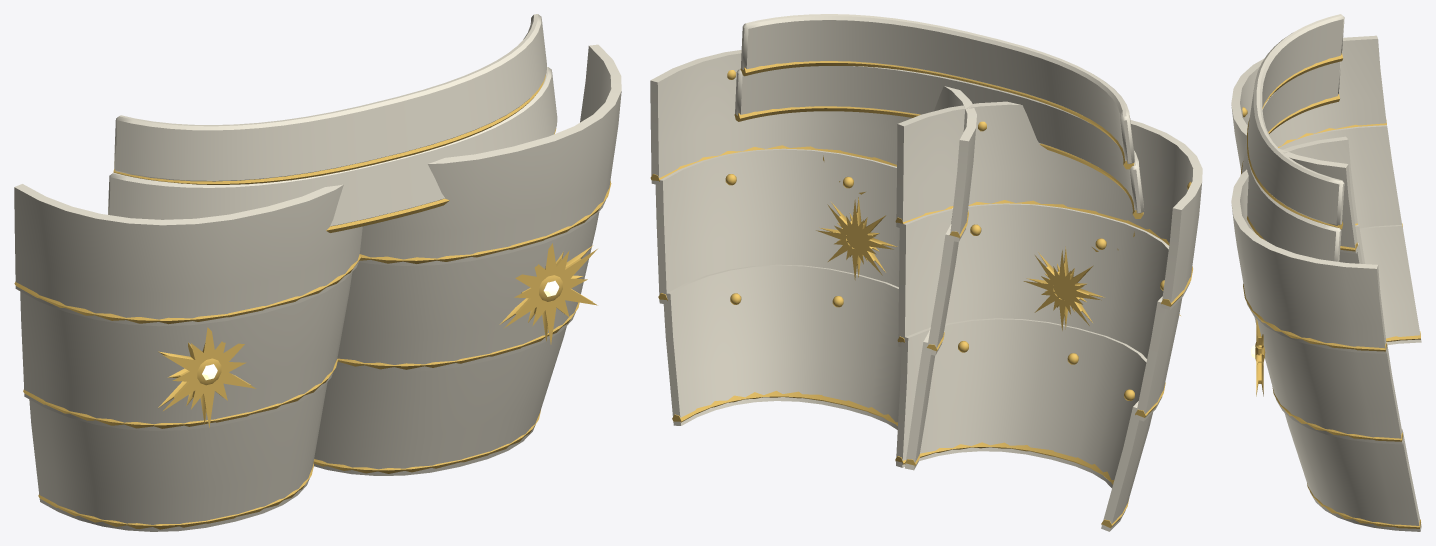
Rendered from asc_seraph_paladin_leggings.glb.
The picture shows the model from 3 angles, left to right: view 1: azimuth 30°, elevation 25°; view 2: azimuth 150°, elevation 25°; view 3: azimuth 270°, elevation 25°; orthographic projection. The views are drawn at different scales.
Parts seen in each view (by area): view 1: AT_thigh_R, AT_thigh_L, asc_seraph_paladin_leggings; view 2: AT_thigh_R, AT_thigh_L, asc_seraph_paladin_leggings; view 3: AT_thigh_L, AT_thigh_R, asc_seraph_paladin_leggings.
Part boxes in pixels (x1,y1,x2,y2): AT_thigh_R: [14, 184, 362, 531]; AT_thigh_L: [313, 44, 621, 475]; asc_seraph_paladin_leggings: [108, 14, 557, 232]; AT_thigh_R: [895, 101, 1202, 531]; AT_thigh_L: [650, 50, 976, 470]; asc_seraph_paladin_leggings: [734, 14, 1144, 330]; AT_thigh_L: [1231, 136, 1421, 531]; AT_thigh_R: [1231, 35, 1421, 344]; asc_seraph_paladin_leggings: [1241, 14, 1344, 261].
Bounding box in the file's own units: 0.5129 × 0.3481 × 0.177.
